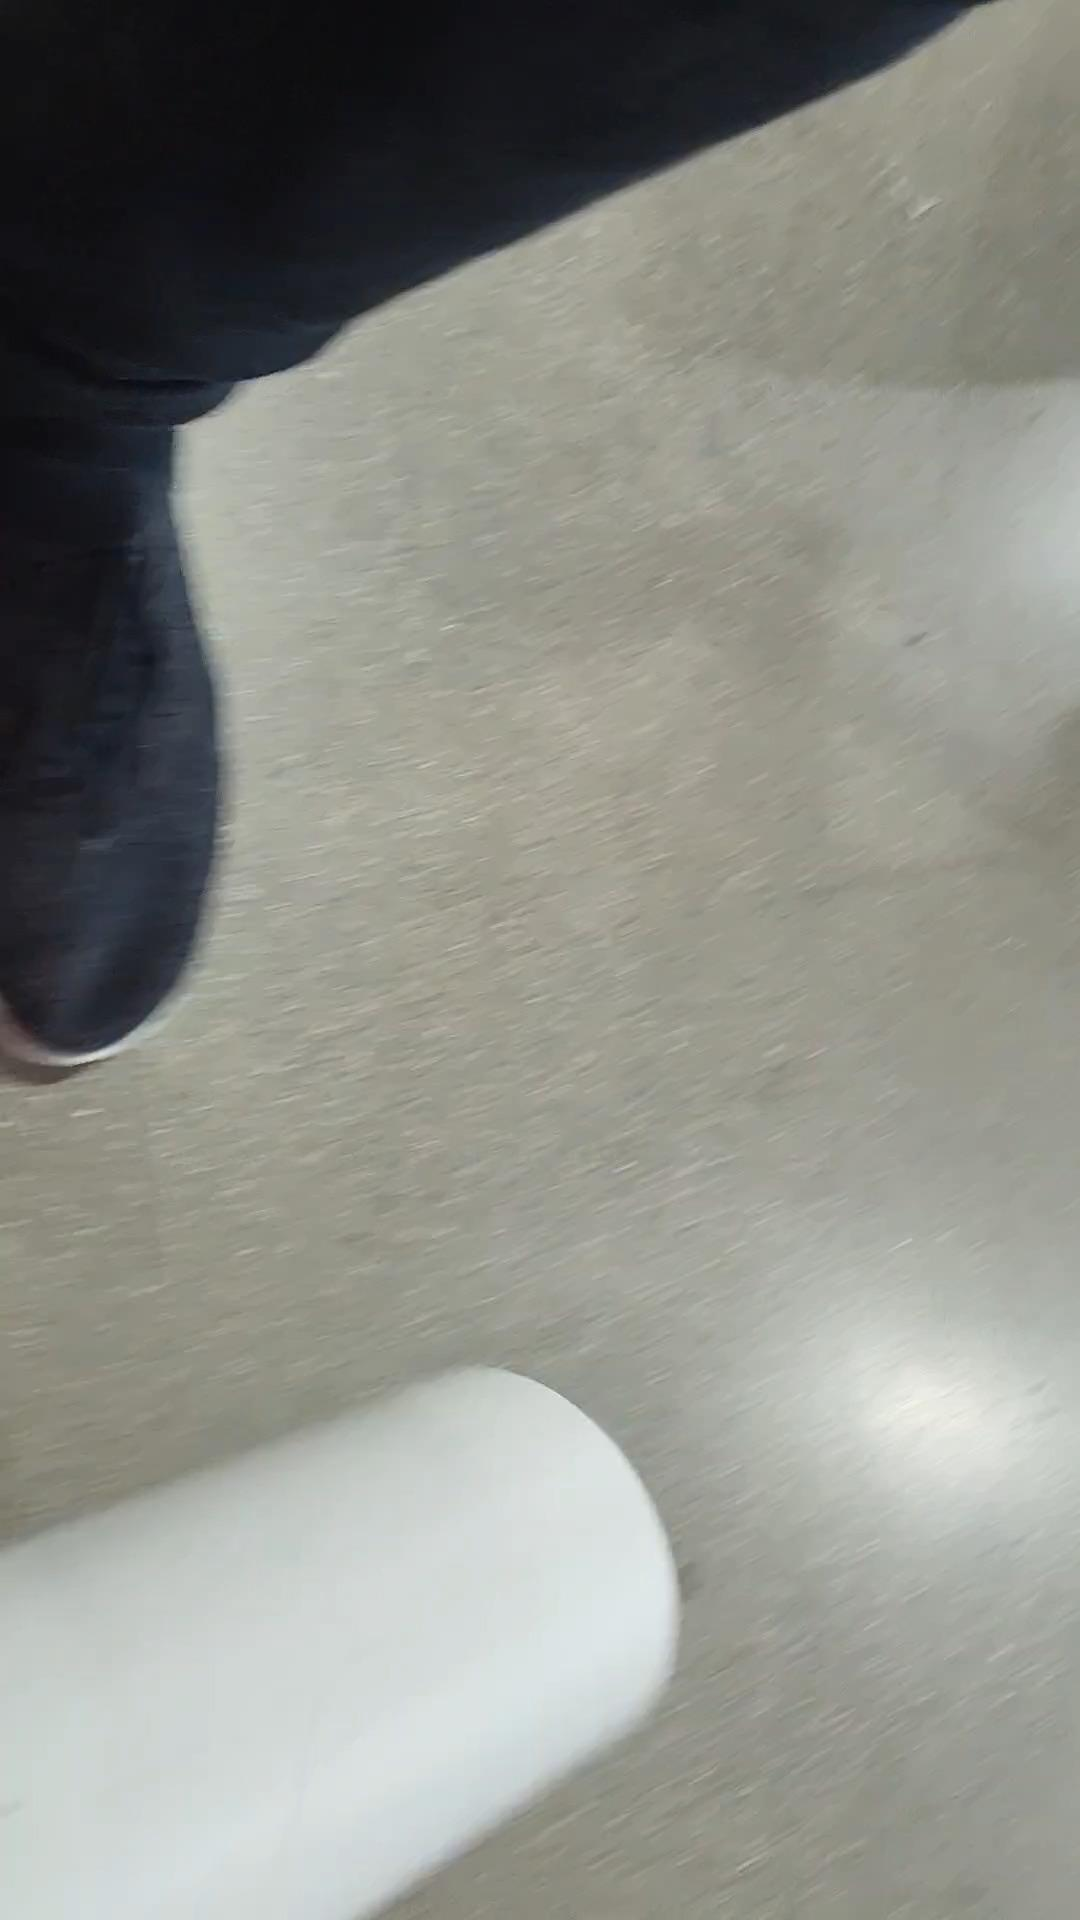coral: (0, 1378, 678, 1920)
